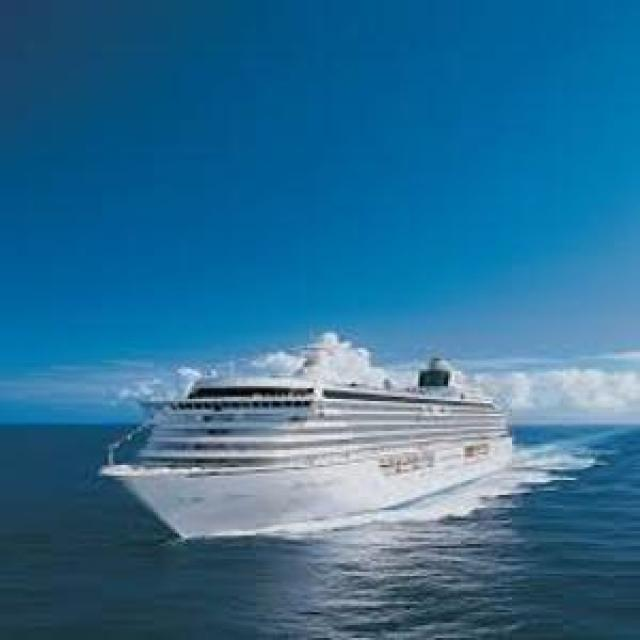passenger ship: (102, 336, 524, 538)
